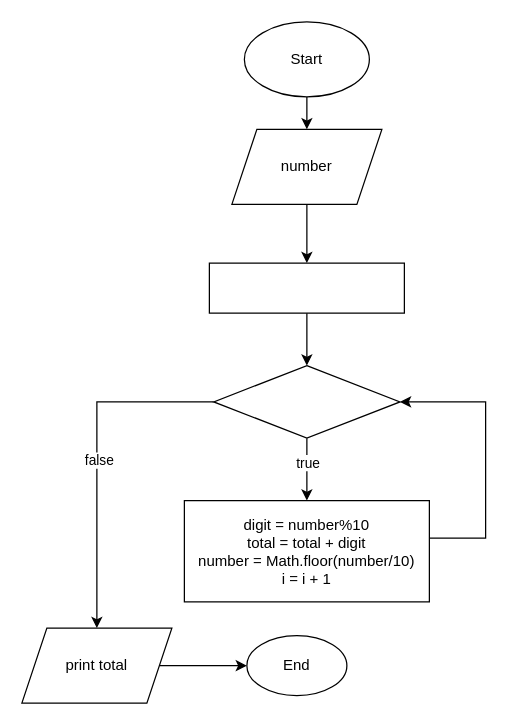
This 518x725 diagram has some shape labels left out. Here are the shapes that lost their labels. From the top down, the centre of each, then its label:
At point 306,287: "total = 0 i = 1".
At point 306,401: "number > 0".
